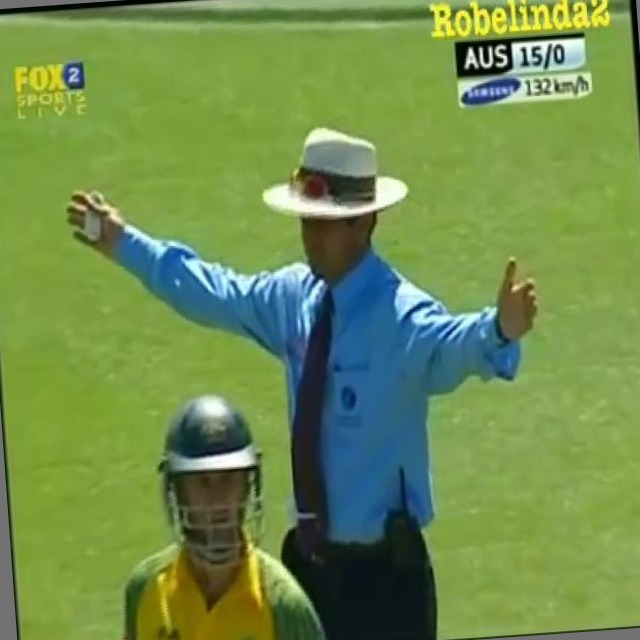Wide: (53, 95, 558, 461)
